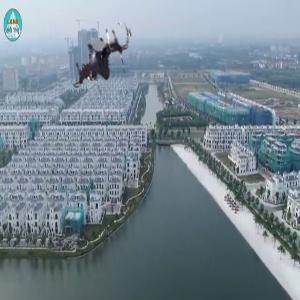drone: (64, 30, 143, 109)
